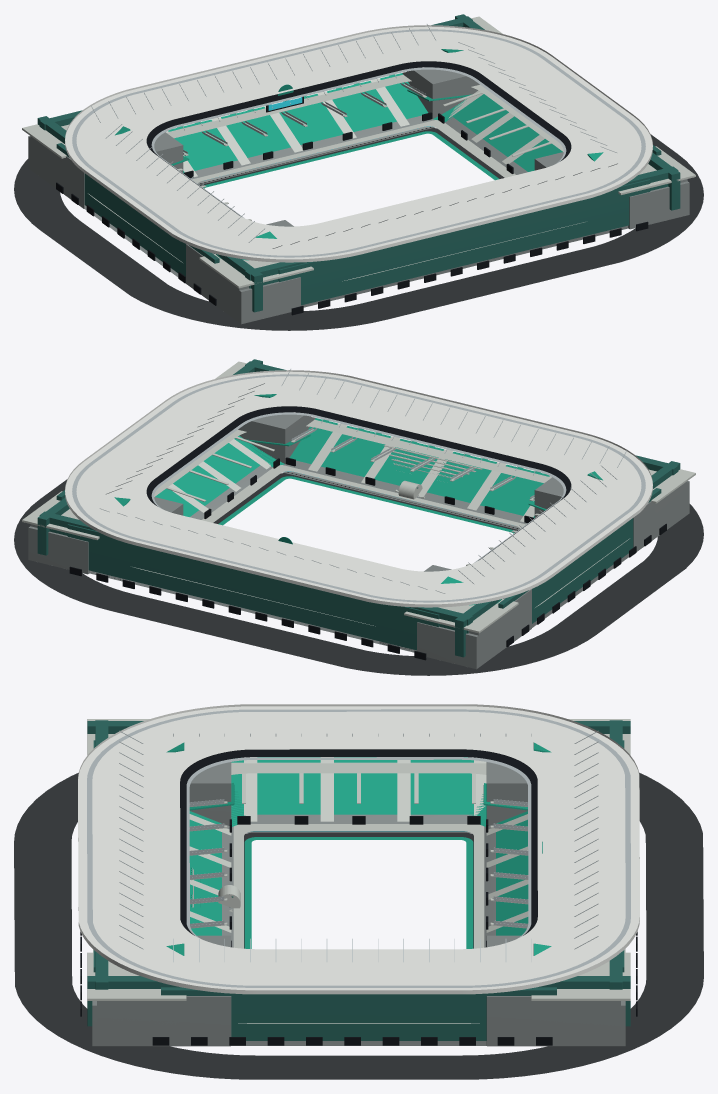
The model's file is stadium_architectural_complete.glb.
3 views of the same model, one above another, from view 1: azimuth 30°, elevation 25°; view 2: azimuth 150°, elevation 25°; view 3: azimuth 270°, elevation 25° (orthographic). The views are drawn at different scales.
Visible parts, largest first — view 1: arch_roof_single_continuous_skin_TEAM_SECONDARY, arch_outer_service_road, arch_south_rear_grandstand_wall_TEAM_ACCENT, arch_north_completed_green_seating_field_TEAM_PRIMARY, arch_roof_rear_steel_lip, arch_roof_outer_thick_edge_TEAM_SECONDARY, arch_west_rear_grandstand_wall_TEAM_ACCENT, arch_roof_dark_soffit, arch_east_completed_green_seating_field_TEAM_PRIMARY, arch_corner_deep_foundation_block_-1_-1, arch_continuous_upper_concourse_lip, arch_north_visible_grandstand_solid_bowl (+17 smaller); view 2: arch_roof_single_continuous_skin_TEAM_SECONDARY, arch_outer_service_road, arch_north_rear_grandstand_wall_TEAM_ACCENT, arch_south_completed_green_seating_field_TEAM_PRIMARY, arch_roof_rear_steel_lip, arch_roof_outer_thick_edge_TEAM_SECONDARY, arch_west_rear_grandstand_wall_TEAM_ACCENT, arch_roof_dark_soffit, arch_east_completed_green_seating_field_TEAM_PRIMARY, arch_continuous_upper_concourse_lip, arch_south_visible_grandstand_solid_bowl, arch_northwest_corner_solid_bowl_fill (+16 smaller); view 3: arch_roof_single_continuous_skin_TEAM_SECONDARY, arch_outer_service_road, arch_east_rear_grandstand_wall_TEAM_ACCENT, arch_west_completed_green_seating_field_TEAM_PRIMARY, arch_northeast_corner_solid_bowl_fill, arch_southeast_corner_solid_bowl_fill, arch_roof_rear_steel_lip, arch_roof_dark_soffit, arch_roof_outer_thick_edge_TEAM_SECONDARY, arch_continuous_inner_concrete_terrace_lip, arch_continuous_upper_concourse_lip, arch_north_completed_green_seating_field_TEAM_PRIMARY (+19 smaller).
Boxes of the visible parts, box(x1,y1,x2,y2) form: arch_roof_single_continuous_skin_TEAM_SECONDARY: box(65, 26, 652, 259); arch_outer_service_road: box(14, 134, 703, 330); arch_south_rear_grandstand_wall_TEAM_ACCENT: box(278, 179, 650, 305); arch_north_completed_green_seating_field_TEAM_PRIMARY: box(168, 73, 428, 173); arch_roof_rear_steel_lip: box(72, 29, 645, 257); arch_roof_outer_thick_edge_TEAM_SECONDARY: box(65, 25, 652, 262); arch_west_rear_grandstand_wall_TEAM_ACCENT: box(56, 143, 219, 276); arch_roof_dark_soffit: box(146, 61, 571, 215); arch_east_completed_green_seating_field_TEAM_PRIMARY: box(453, 94, 562, 171); arch_corner_deep_foundation_block_-1_-1: box(207, 267, 300, 324); arch_continuous_upper_concourse_lip: box(167, 74, 563, 151); arch_north_visible_grandstand_solid_bowl: box(190, 115, 434, 184); arch_roof_single_continuous_skin_TEAM_SECONDARY: box(65, 371, 652, 604); arch_outer_service_road: box(14, 479, 703, 675); arch_north_rear_grandstand_wall_TEAM_ACCENT: box(67, 524, 439, 650); arch_south_completed_green_seating_field_TEAM_PRIMARY: box(289, 418, 549, 517); arch_roof_rear_steel_lip: box(72, 374, 645, 602); arch_roof_outer_thick_edge_TEAM_SECONDARY: box(65, 370, 652, 607); arch_west_rear_grandstand_wall_TEAM_ACCENT: box(498, 488, 661, 623); arch_roof_dark_soffit: box(146, 406, 571, 560); arch_east_completed_green_seating_field_TEAM_PRIMARY: box(155, 435, 265, 516); arch_continuous_upper_concourse_lip: box(154, 419, 550, 496); arch_south_visible_grandstand_solid_bowl: box(283, 460, 527, 529); arch_northwest_corner_solid_bowl_fill: box(379, 565, 531, 667); arch_roof_single_continuous_skin_TEAM_SECONDARY: box(78, 706, 639, 990); arch_outer_service_road: box(14, 773, 703, 1079); arch_east_rear_grandstand_wall_TEAM_ACCENT: box(161, 987, 556, 1040); arch_west_completed_green_seating_field_TEAM_PRIMARY: box(231, 757, 473, 814); arch_northeast_corner_solid_bowl_fill: box(486, 935, 620, 1046); arch_southeast_corner_solid_bowl_fill: box(97, 935, 231, 1046); arch_roof_rear_steel_lip: box(87, 709, 630, 987); arch_roof_dark_soffit: box(180, 749, 537, 935); arch_roof_outer_thick_edge_TEAM_SECONDARY: box(78, 704, 639, 994); arch_continuous_inner_concrete_terrace_lip: box(233, 824, 484, 948); arch_continuous_upper_concourse_lip: box(231, 762, 486, 774); arch_north_completed_green_seating_field_TEAM_PRIMARY: box(496, 811, 528, 935).
Size of the model in its own units: 252 by 25.78 by 216.
